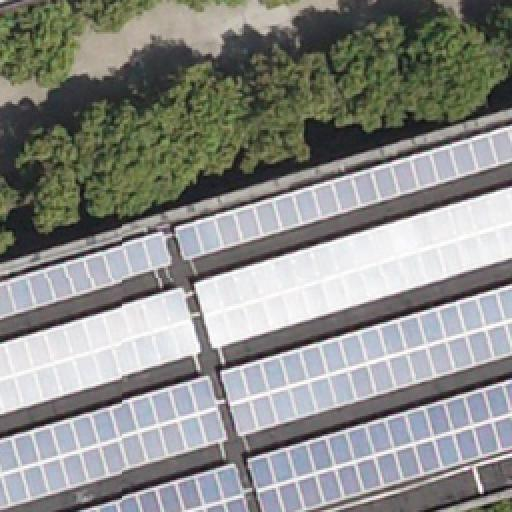solar-panel: (192, 185, 512, 351), (217, 280, 511, 436), (176, 124, 512, 260), (248, 376, 512, 512), (0, 374, 228, 510), (1, 283, 207, 413), (1, 232, 175, 320), (75, 464, 253, 512)
